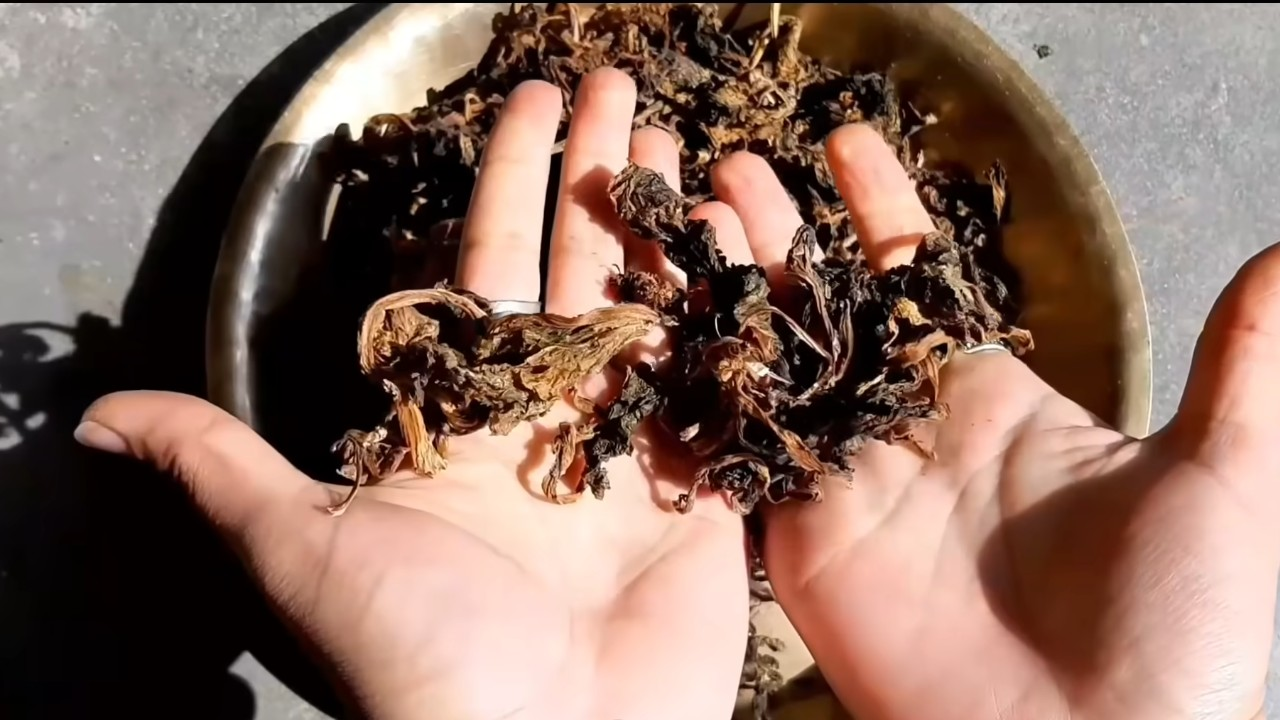gundruk: (365, 207, 1005, 460)
